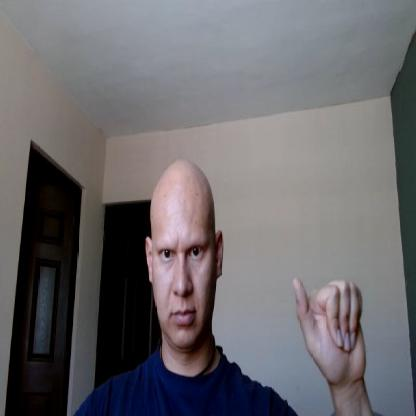A: (292, 271, 367, 379)
